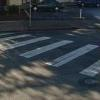Crosswalk: (4, 25, 87, 84)
